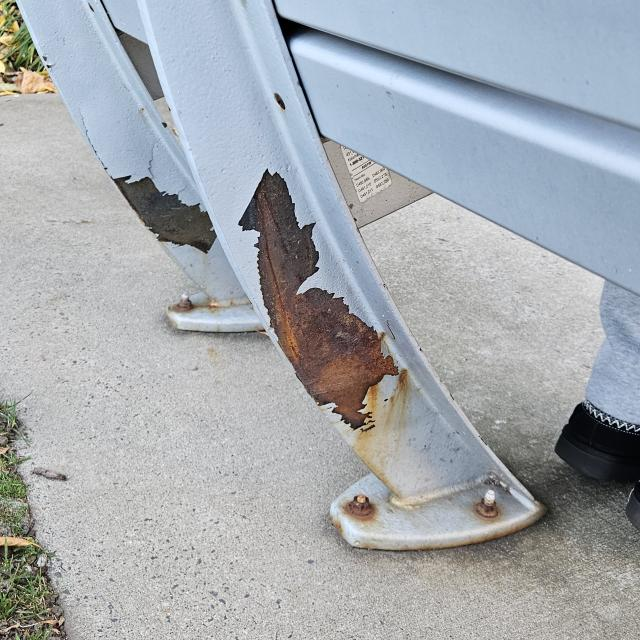Crevice Corrosion: (346, 495, 376, 521), (477, 491, 499, 520)
Filiform Corrosion: (240, 171, 398, 430), (116, 181, 207, 242)
